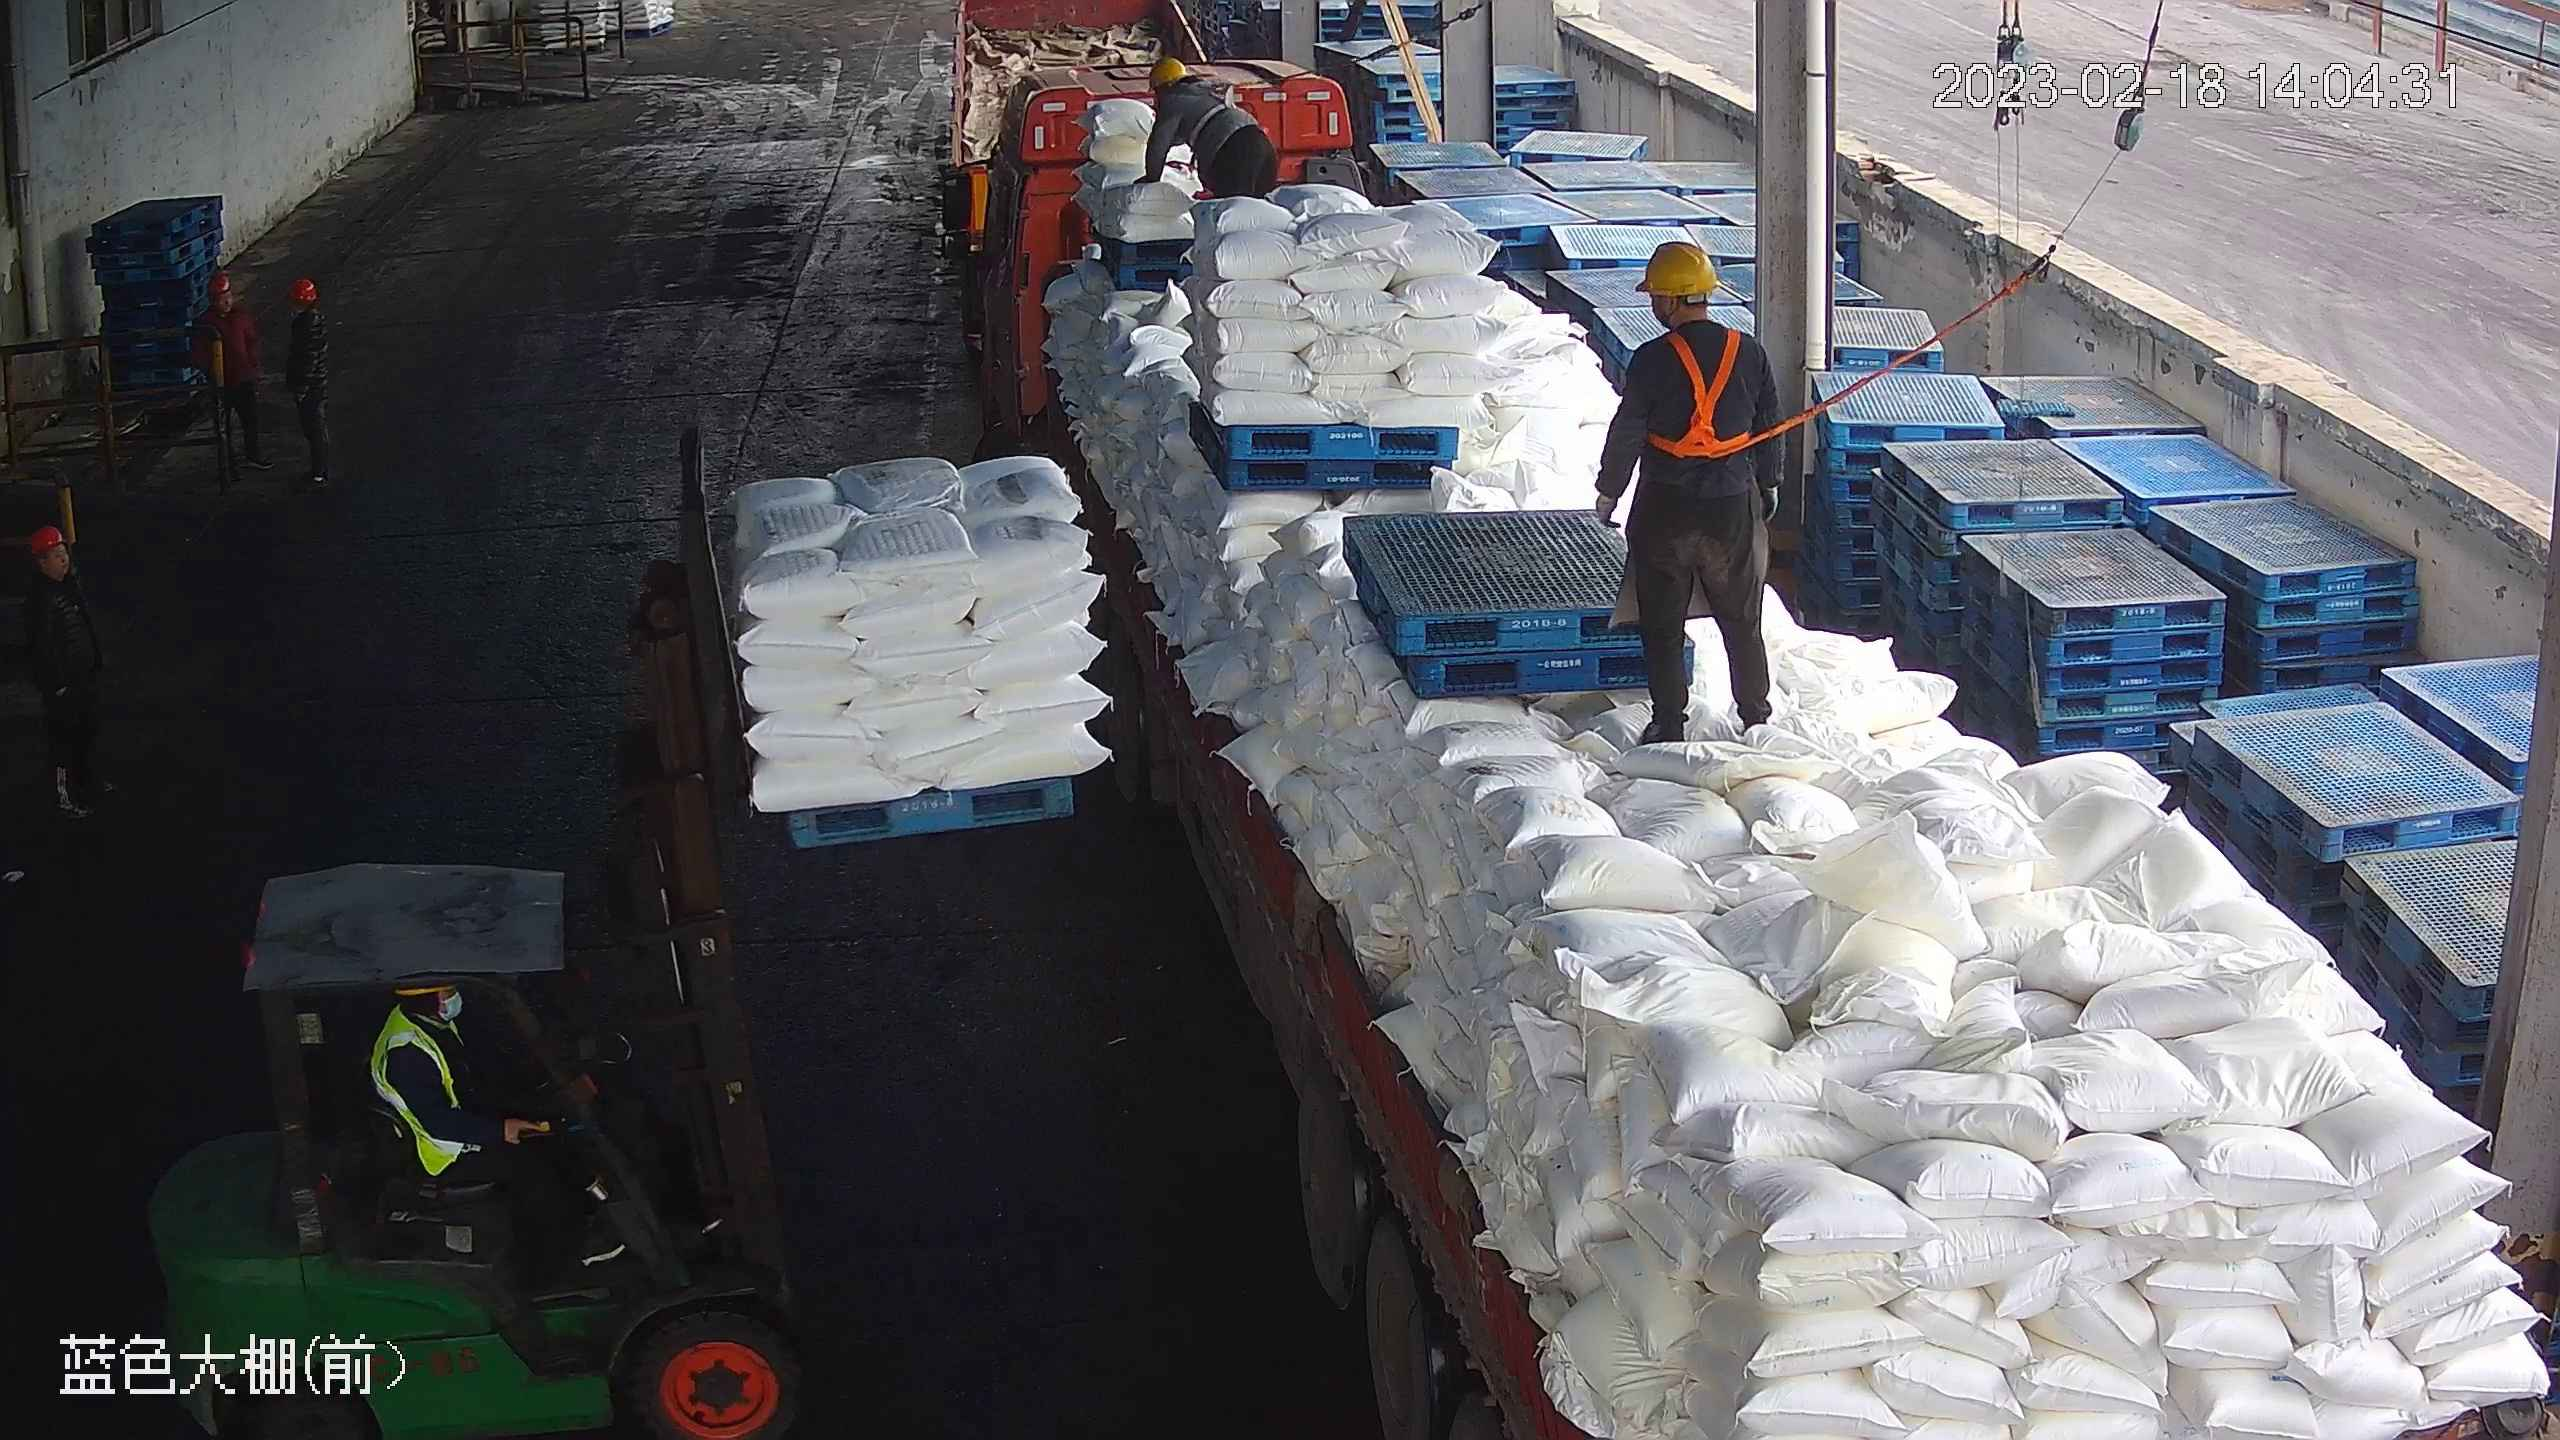belt: (1642, 320, 1768, 459), (1178, 78, 1248, 140)
head: (1617, 240, 1778, 391), (17, 519, 99, 628), (1143, 55, 1232, 124), (196, 272, 256, 340), (276, 276, 330, 347)
helmet: (1634, 238, 1720, 296), (1148, 55, 1193, 90), (26, 522, 65, 556), (286, 274, 317, 299), (205, 273, 235, 296)
people: (1586, 236, 1791, 746), (367, 978, 640, 1274), (21, 511, 119, 832), (1135, 57, 1273, 208), (193, 273, 270, 481), (277, 275, 341, 488)
truck: (960, 37, 2548, 1440)
